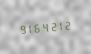four: (41, 20, 48, 33)
nine: (17, 22, 24, 35)
one: (25, 21, 32, 35), (57, 18, 64, 32)
six: (33, 21, 40, 34)
two: (49, 19, 56, 32), (65, 18, 72, 31)
